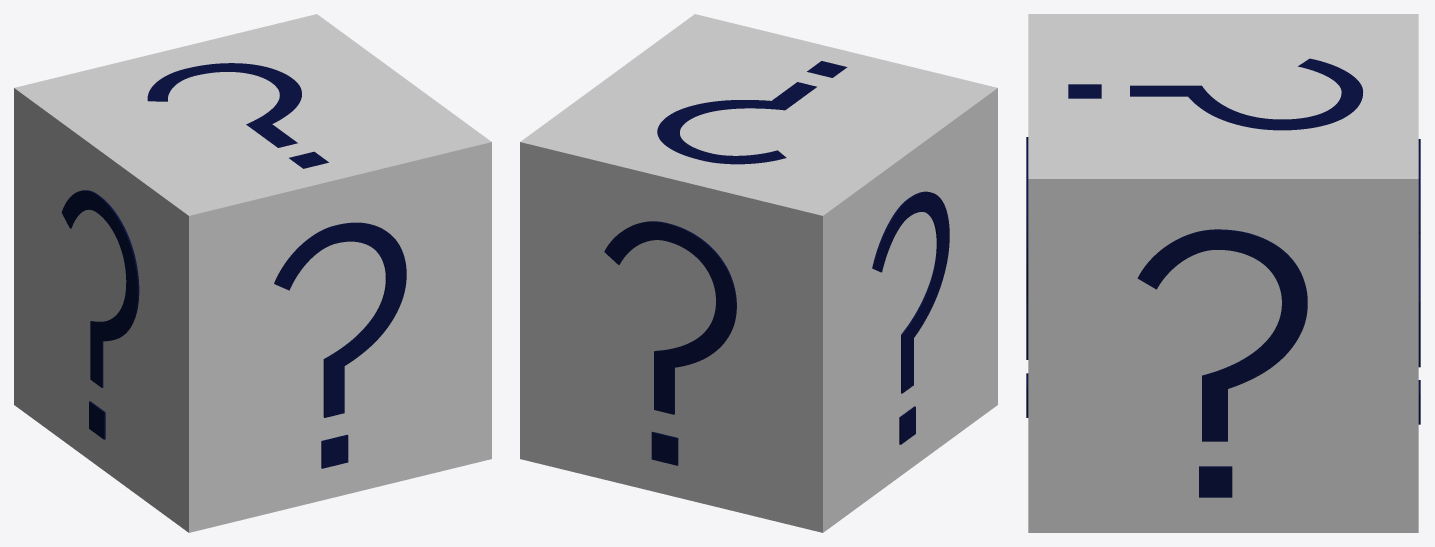
Rendered from randomBox.fbx.
3 views of the same model, side by side, from view 1: azimuth 30°, elevation 25°; view 2: azimuth 150°, elevation 25°; view 3: azimuth 270°, elevation 25° (orthographic). The views are drawn at different scales.
Parts seen in each view (by area): view 1: Cube, Text.001, Text.004, Text; view 2: Cube, Text.003, Text.004, Text; view 3: Cube, Text.002, Text, Text.003, Text.001.
Part boxes in pixels (<box>): Cube: <box>14,14,491,532</box>; Text.001: <box>274,222,406,468</box>; Text.004: <box>61,190,139,439</box>; Text: <box>147,63,328,168</box>; Cube: <box>520,14,997,532</box>; Text.003: <box>604,221,736,465</box>; Text.004: <box>872,191,949,444</box>; Text: <box>657,61,847,164</box>; Cube: <box>1028,14,1418,532</box>; Text.002: <box>1137,229,1307,497</box>; Text: <box>1068,58,1362,130</box>; Text.003: <box>1418,139,1420,424</box>; Text.001: <box>1026,137,1028,417</box>.
Size of the model in its own units: 202 by 202 by 202.
